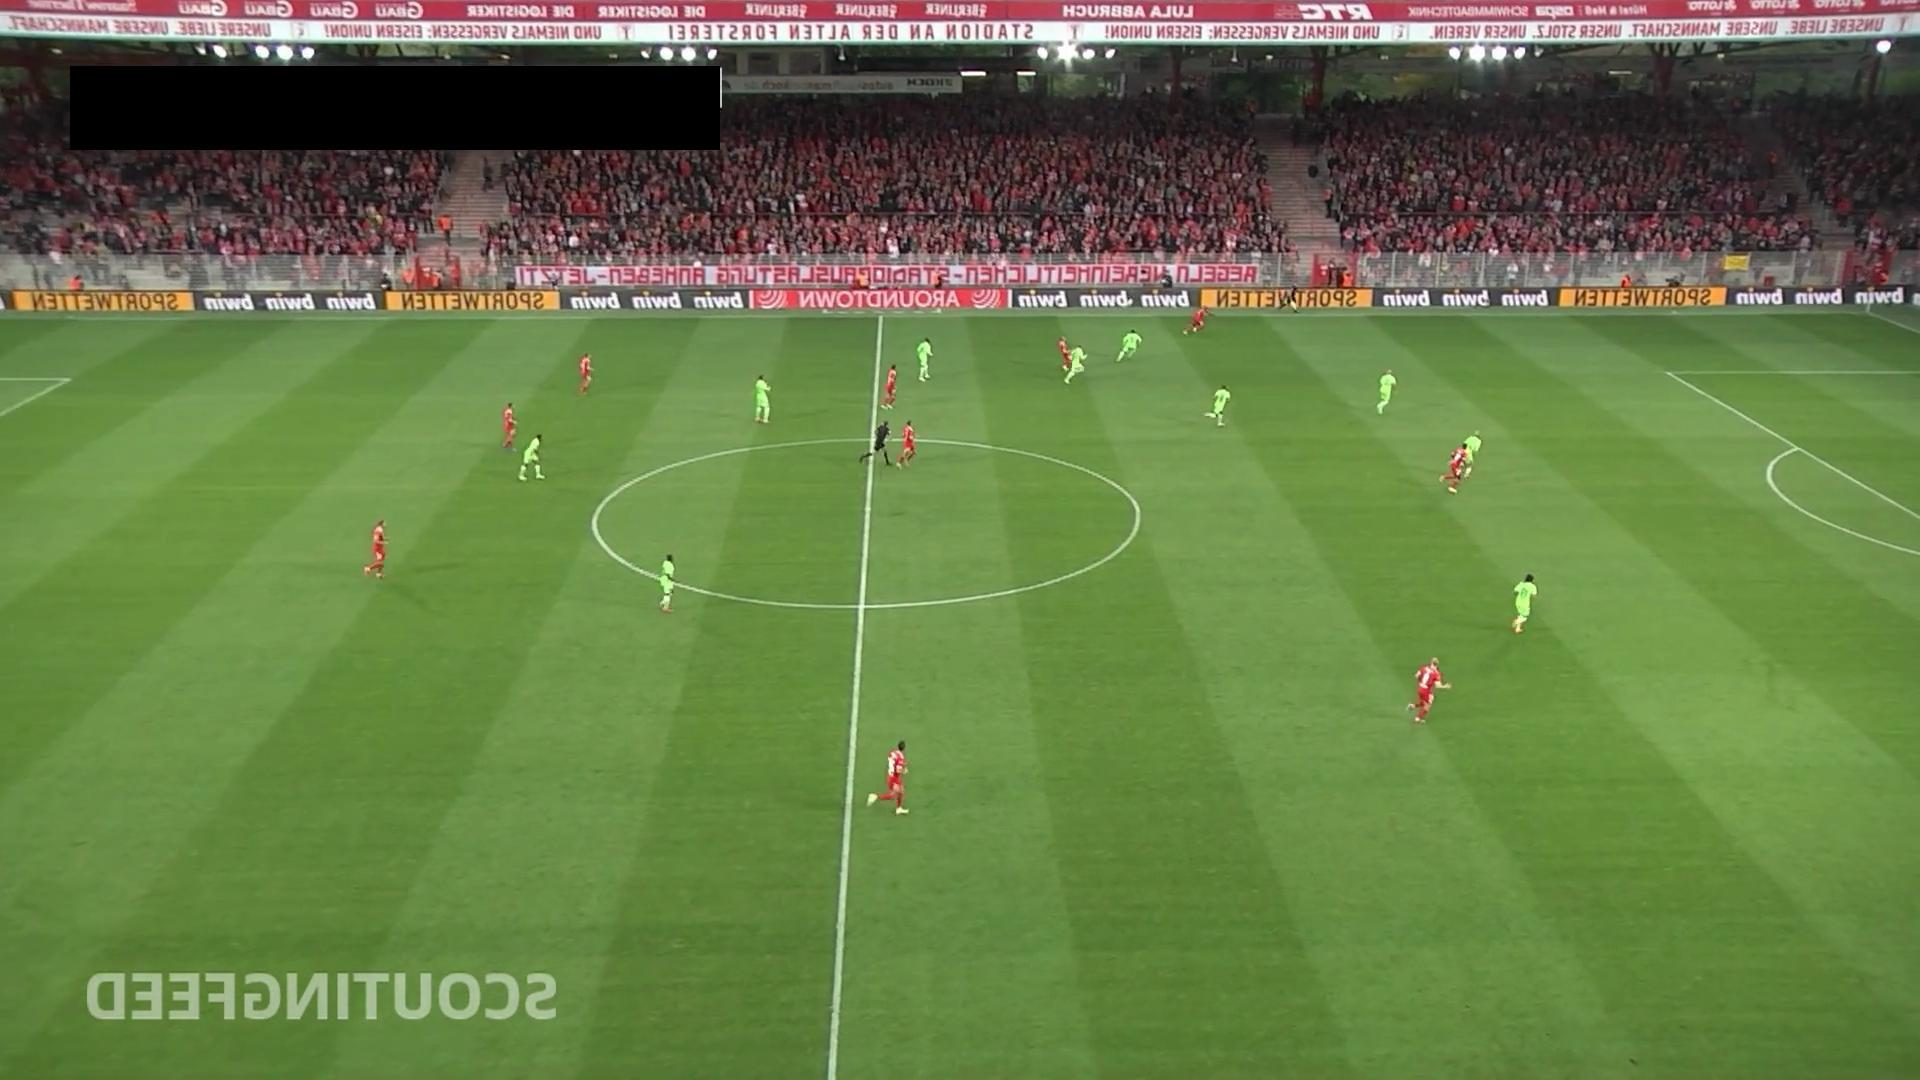player: (866, 739, 910, 816), (1405, 656, 1451, 724), (1438, 443, 1473, 494), (1454, 428, 1485, 483), (1511, 572, 1538, 634), (362, 518, 388, 578), (518, 433, 546, 481), (1063, 341, 1087, 384), (1376, 367, 1397, 416), (658, 554, 675, 612), (897, 420, 917, 468), (1115, 328, 1143, 362), (1210, 383, 1231, 427), (754, 373, 772, 423), (1180, 308, 1209, 338), (916, 336, 934, 381), (502, 401, 518, 450), (577, 352, 594, 396), (882, 365, 898, 409), (1058, 337, 1072, 377)
referee: (859, 421, 897, 468), (1274, 276, 1302, 316)
